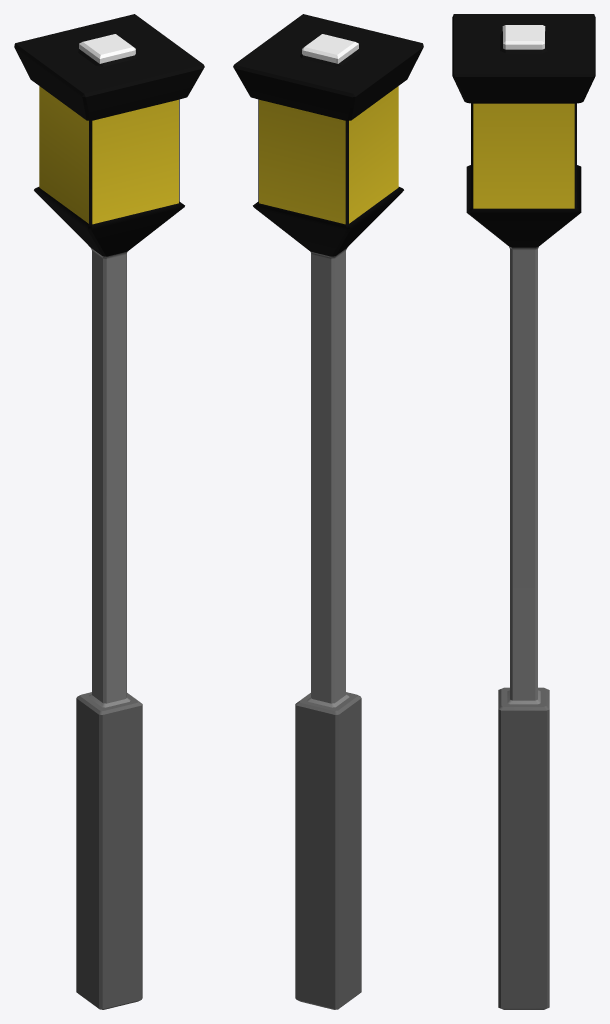
File: StreetLight1.fbx
3 views of the same model, side by side, from view 1: azimuth 30°, elevation 25°; view 2: azimuth 150°, elevation 25°; view 3: azimuth 270°, elevation 25° (orthographic).
Visible parts, largest first — view 1: pCube2; view 2: pCube2; view 3: pCube2.
Part boxes in pixels (box(x1,y1,x2,y2)): pCube2: box(14, 14, 204, 1009); pCube2: box(233, 14, 423, 1009); pCube2: box(452, 14, 595, 1009).
Bounding box in the file's own units: 0.2575 × 1.91 × 0.2575.
Materials: 3 (3 with a texture image).
